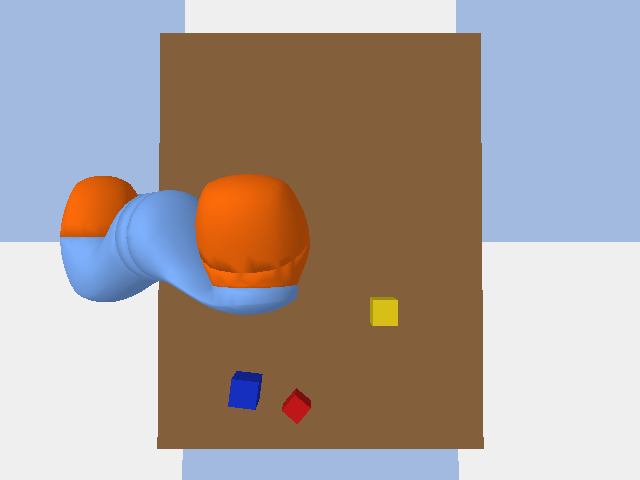blue_obj: (228, 371, 262, 409)
red_obj: (282, 388, 310, 423)
yellow_obj: (370, 297, 397, 325)
